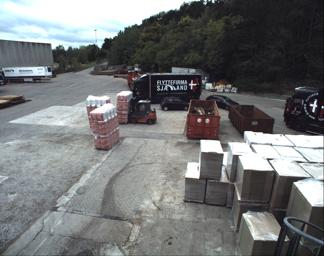rockwool_batts: (88, 103, 119, 150), (83, 92, 108, 113), (117, 90, 132, 122)
